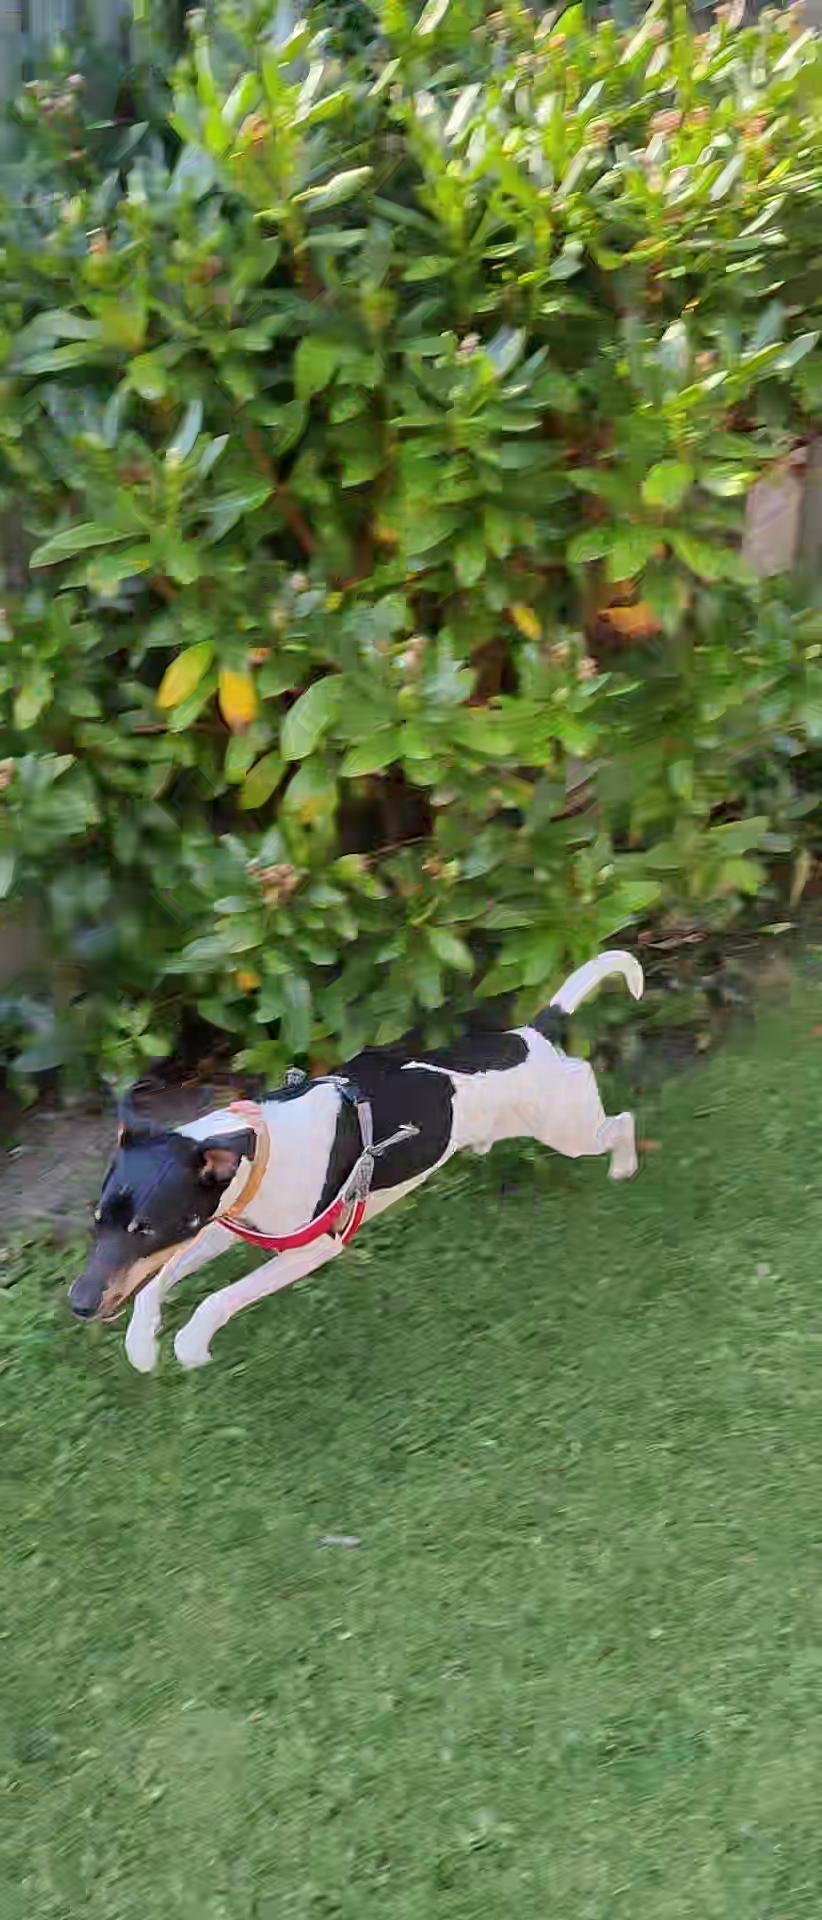Dog: (58, 938, 662, 1411)
